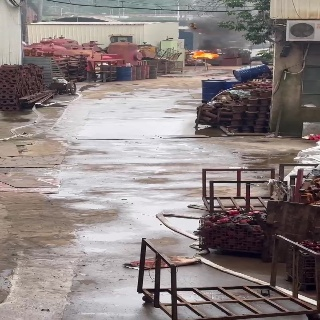fire: (193, 50, 218, 58)
